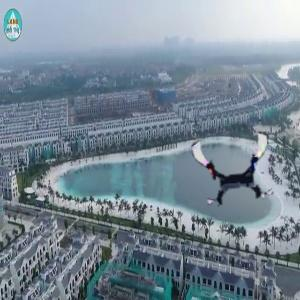drone: (193, 129, 274, 210)
